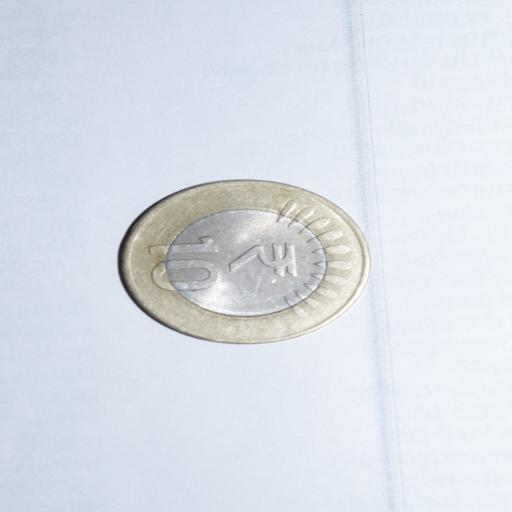rupee10: (117, 178, 372, 345)
